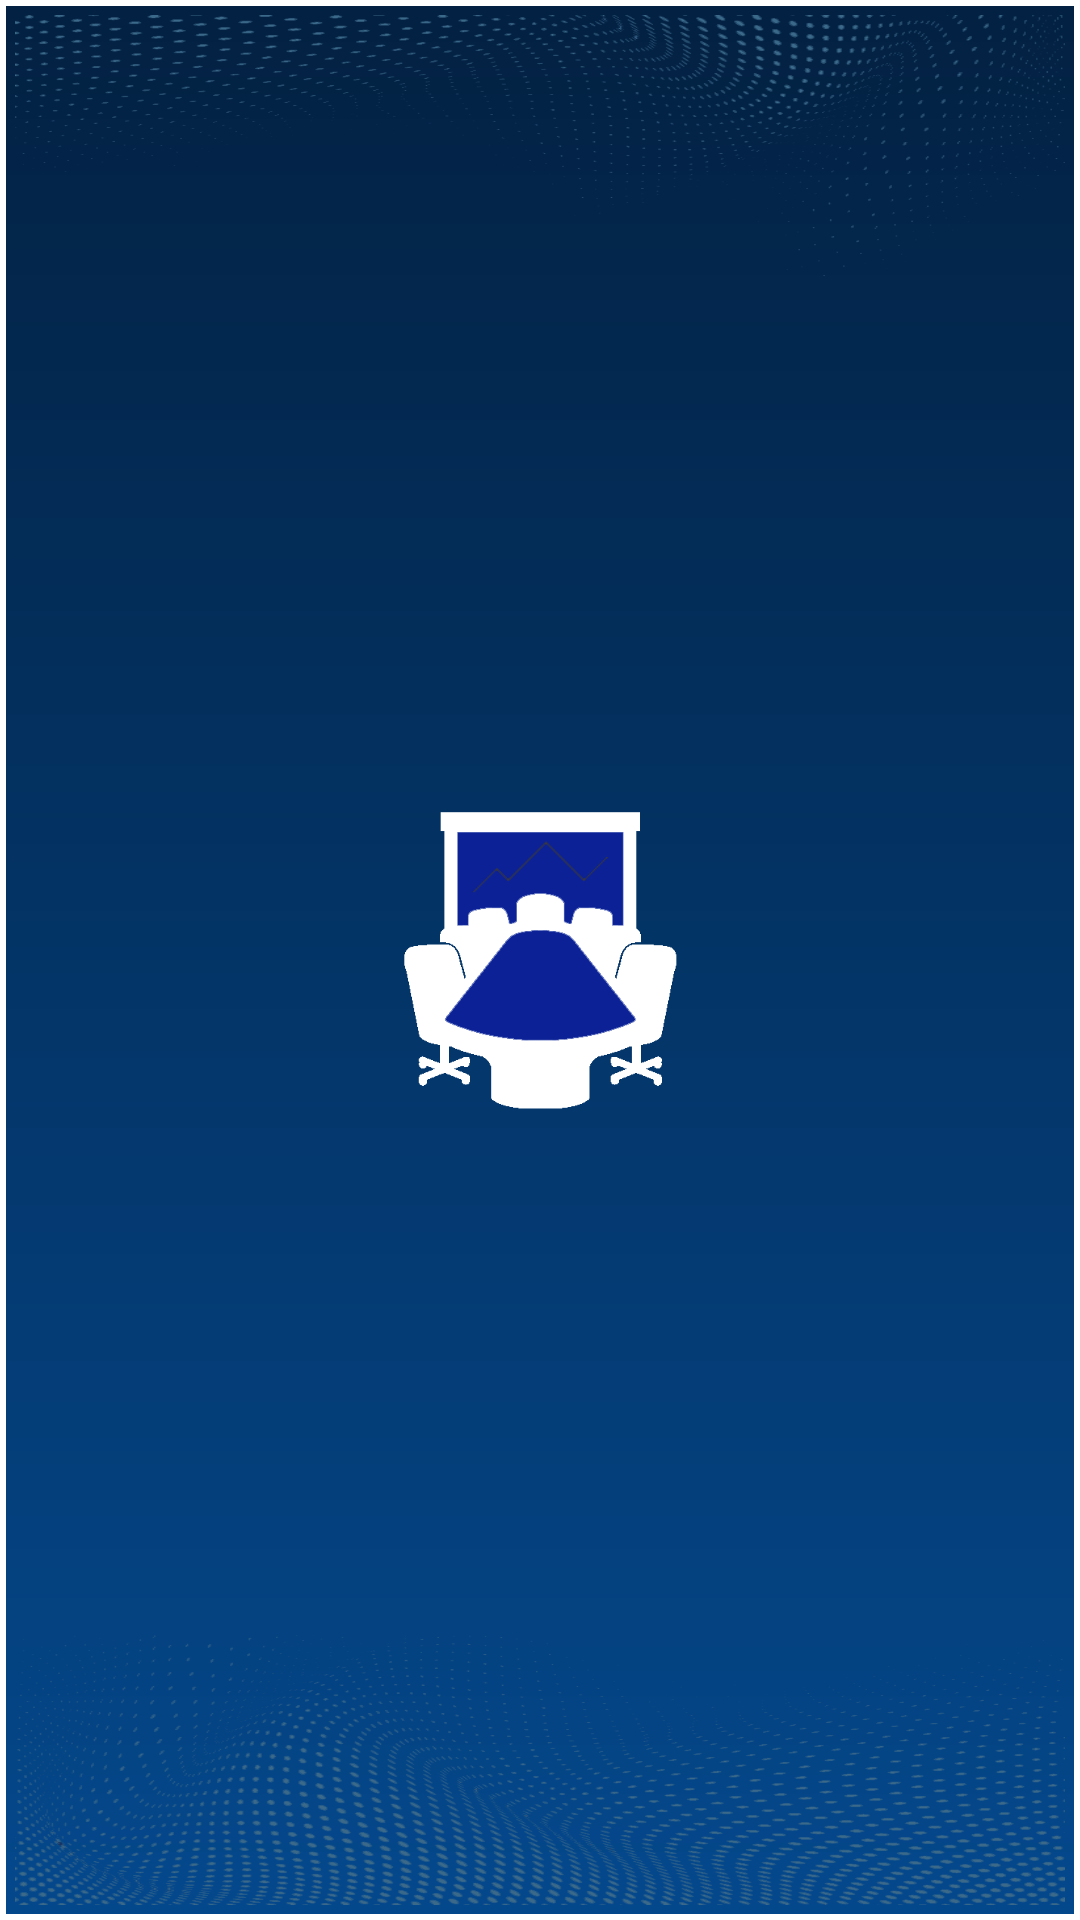

Where to tap for icons on this 1080w x 1920h app screen, as (x,y):
meeting: (540,960)
